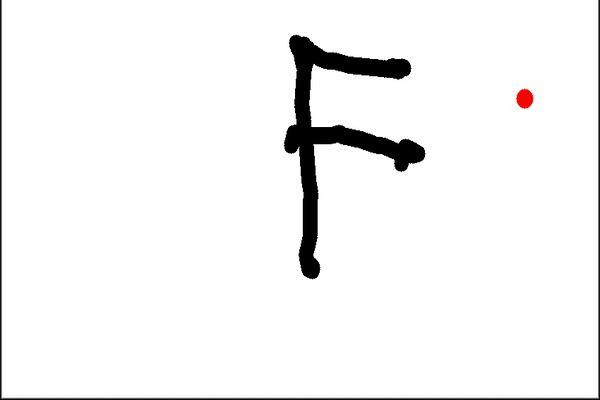F: (276, 31, 428, 281)
